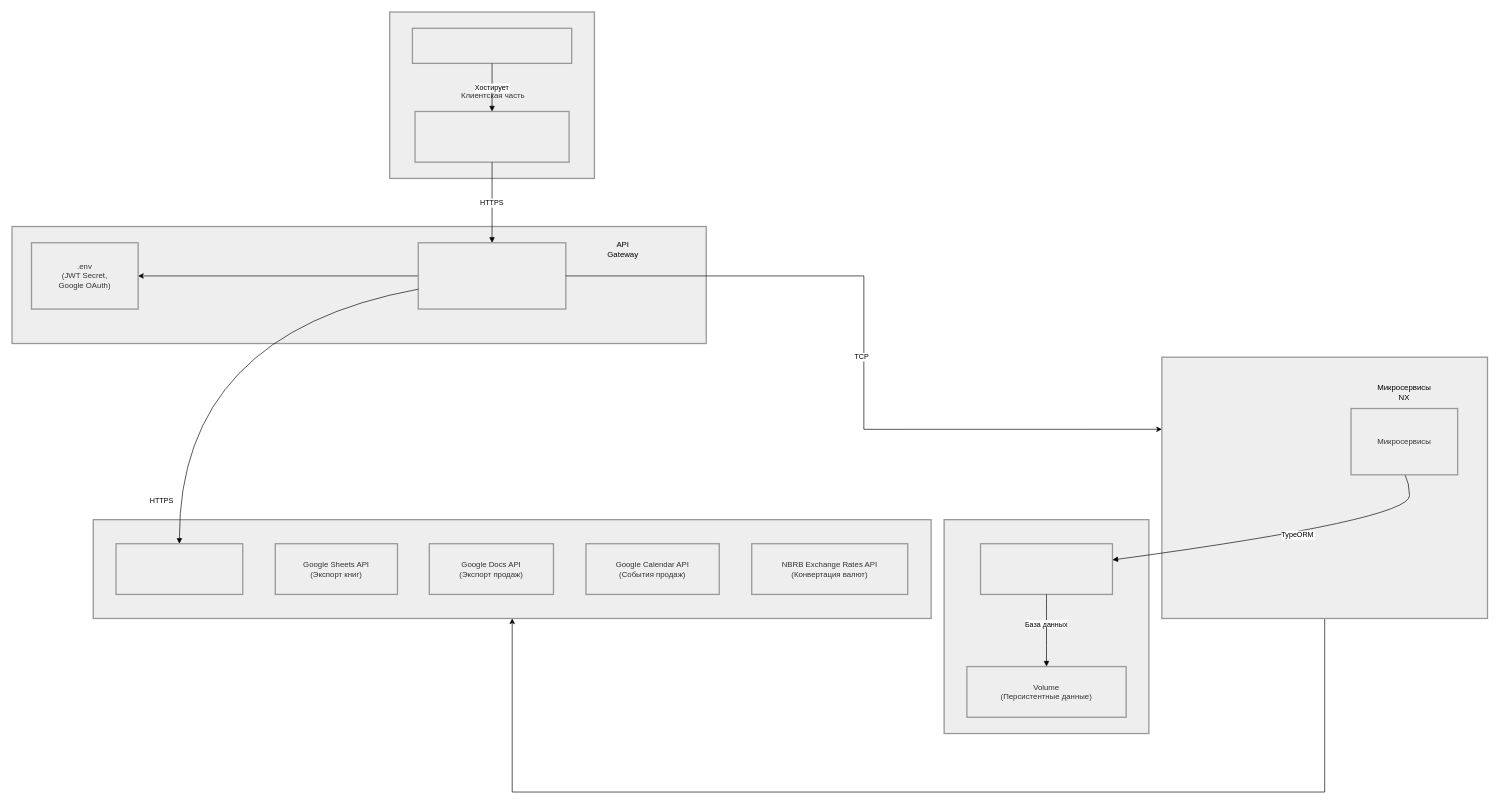
The diagram is 1499 pixels wide and 809 high, and some of its shapes have lost their labels. Here are the shapes that lost their labels. From the top down, the centre of each, then its label:
At pixel 491 45: "Браузер пользователя".
At pixel 491 136: "Angular SPA (Single Page Application)".
At pixel 491 275: "Nest.js Gateway (HTTP API) AuthGuard, RolesGuard".
At pixel 179 569: "Google OAuth 2.0 (Аутентификация)".
At pixel 1046 569: "PostgreSQL (Docker контейнер)".
